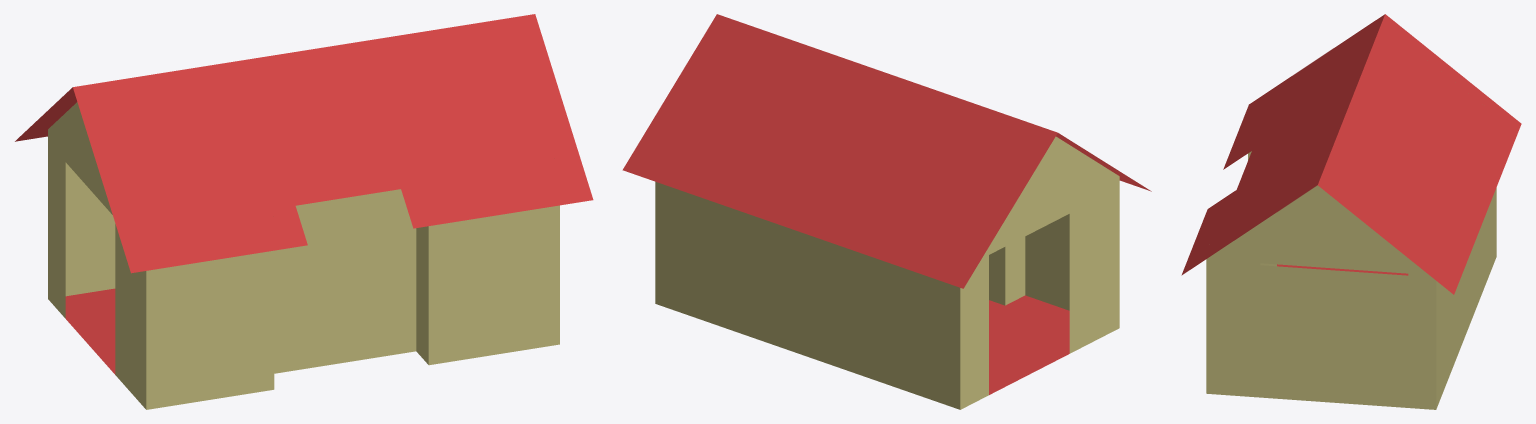
The picture shows the model from 3 angles, left to right: view 1: azimuth 30°, elevation 25°; view 2: azimuth 150°, elevation 25°; view 3: azimuth 270°, elevation 25°; orthographic projection. The views are drawn at different scales.
Size of the model in its own units: 20.75 by 15.67 by 11.46.
